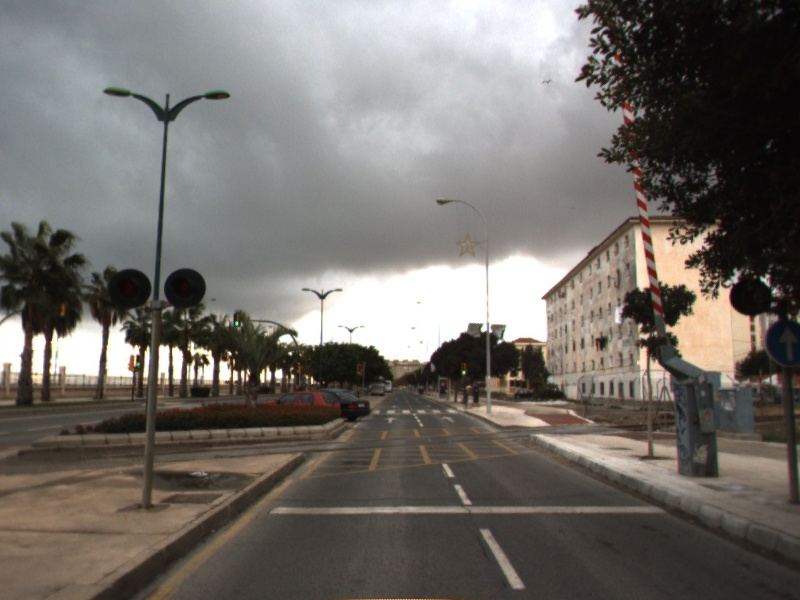STRAIGHT: (439, 414, 457, 424), (383, 415, 399, 425)
